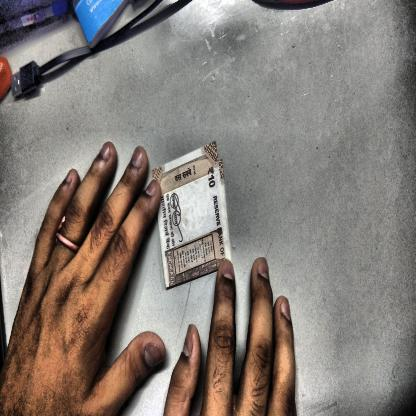Rs10: (205, 164, 217, 191)
